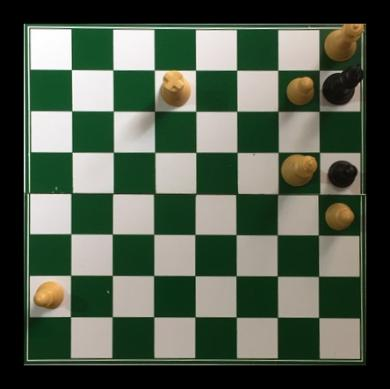black-king: (321, 61, 365, 106)
black-pawn: (326, 158, 357, 190)
white-king: (278, 153, 319, 187)
white-pawn: (32, 279, 65, 311), (323, 201, 356, 233), (284, 74, 315, 107)
white-queen: (321, 25, 365, 65)
white-rook: (160, 68, 191, 107)
